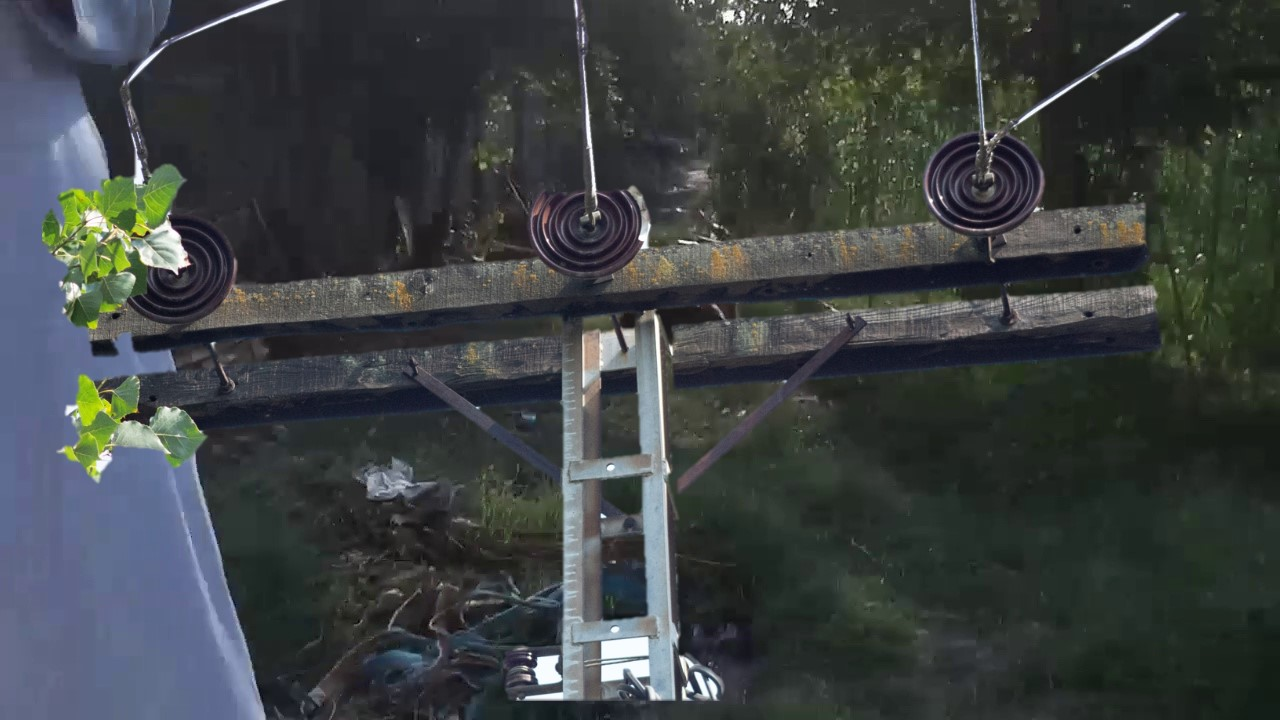defect_disc: (525, 170, 656, 280)
insulator_disc: (918, 130, 1050, 234), (166, 216, 244, 321)
